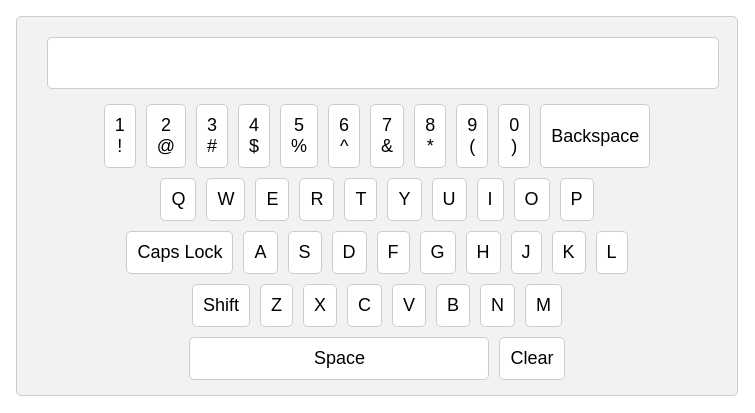
Scenario: Keyboard Component › Checking the backspace button
Click the button "H" at (483, 252), box [466,231,500,274]
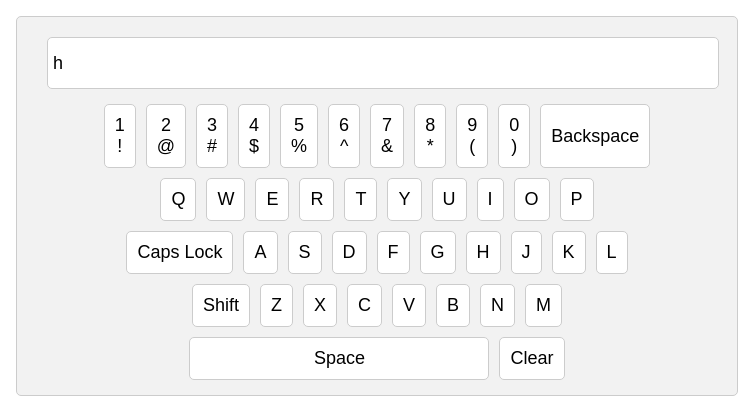
Click the button "E" at (272, 200), box [256,178,290,221]
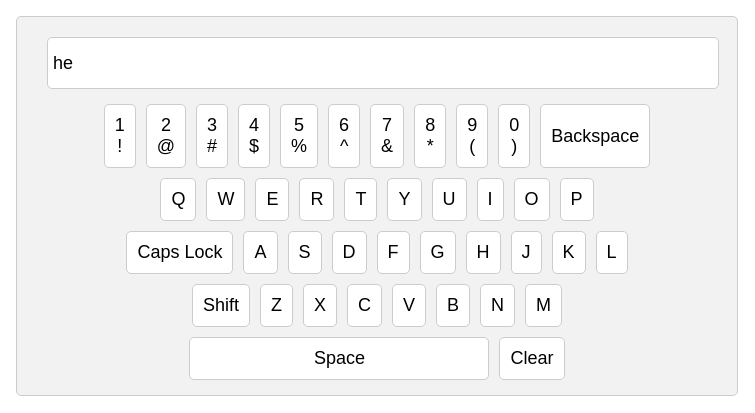
Click the button "L" at (612, 252), box [596,231,628,274]
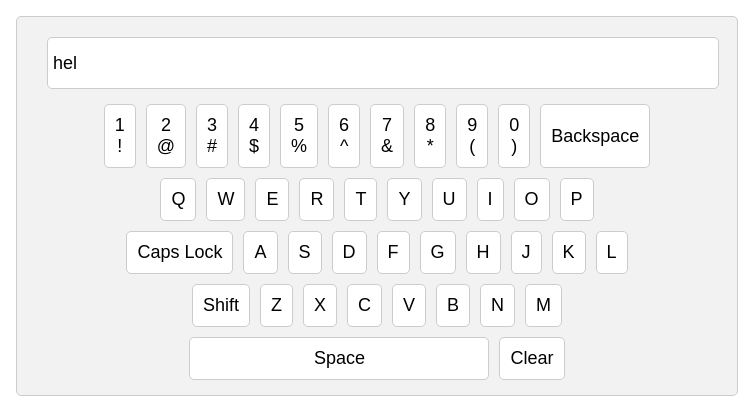
Click the button "L" at (612, 252), box [596,231,628,274]
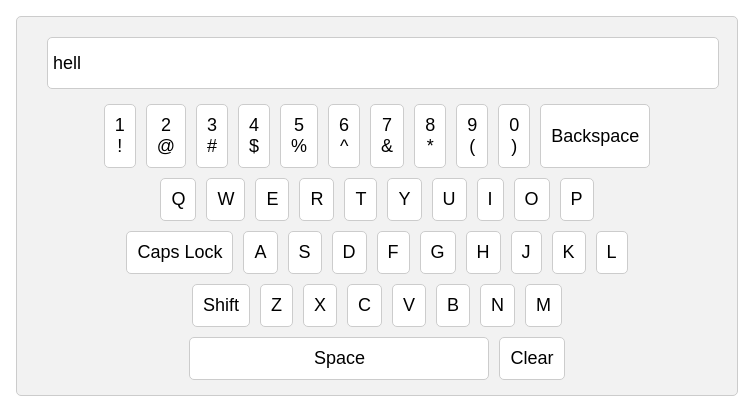
Click the button "O" at (532, 200), box [514,178,550,221]
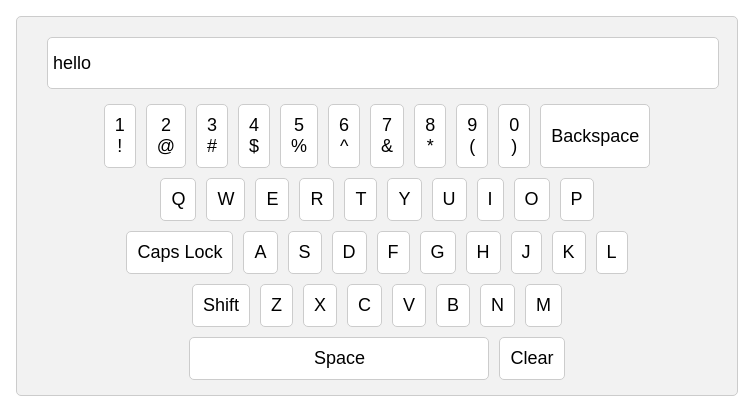
Click the button "Backspace" at (595, 136), box [540,104,650,168]
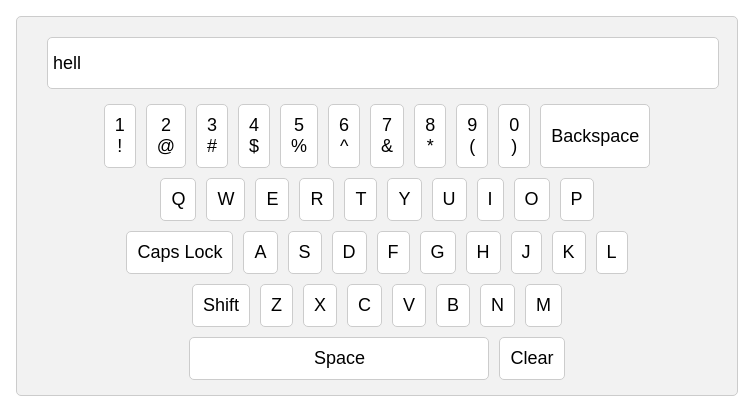
expect the field with test id "input-field" holds "hell": met, box [47,37,719,89]
